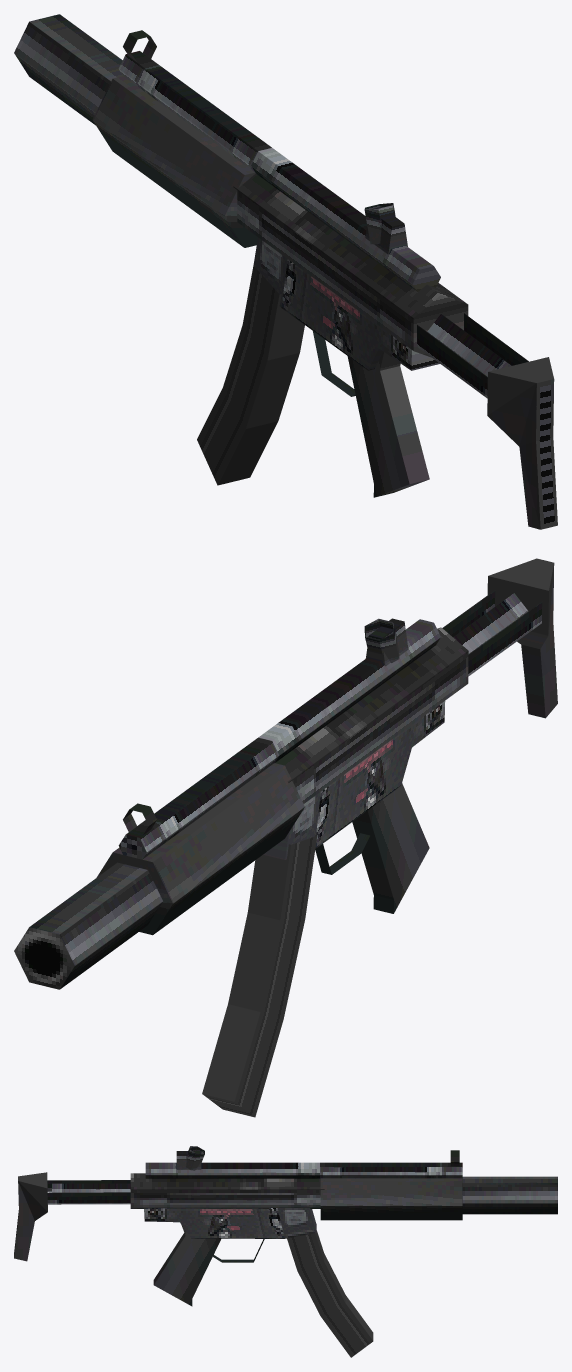
The model's file is recovered_gun_mp5sd_b51e4169.glb.
3 views of the same model, one above another, from view 1: azimuth 30°, elevation 25°; view 2: azimuth 150°, elevation 25°; view 3: azimuth 270°, elevation 25° (orthographic). The views are drawn at different scales.
Visible parts, largest first — view 1: Gun_0714c50f9222; view 2: Gun_0714c50f9222, Gun_379f7b5fa02f; view 3: Gun_0714c50f9222.
Part boxes in pixels (x1=…): Gun_0714c50f9222: x1=14, y1=14, x2=557, y2=529; Gun_0714c50f9222: x1=29, y1=558, x2=557, y2=1117; Gun_379f7b5fa02f: x1=14, y1=927, x2=74, y2=989; Gun_0714c50f9222: x1=14, y1=1146, x2=557, y2=1357.
Bounding box in the file's own units: 0.0642 × 0.2918 × 0.6967.
Materials: 2 (2 with a texture image).
